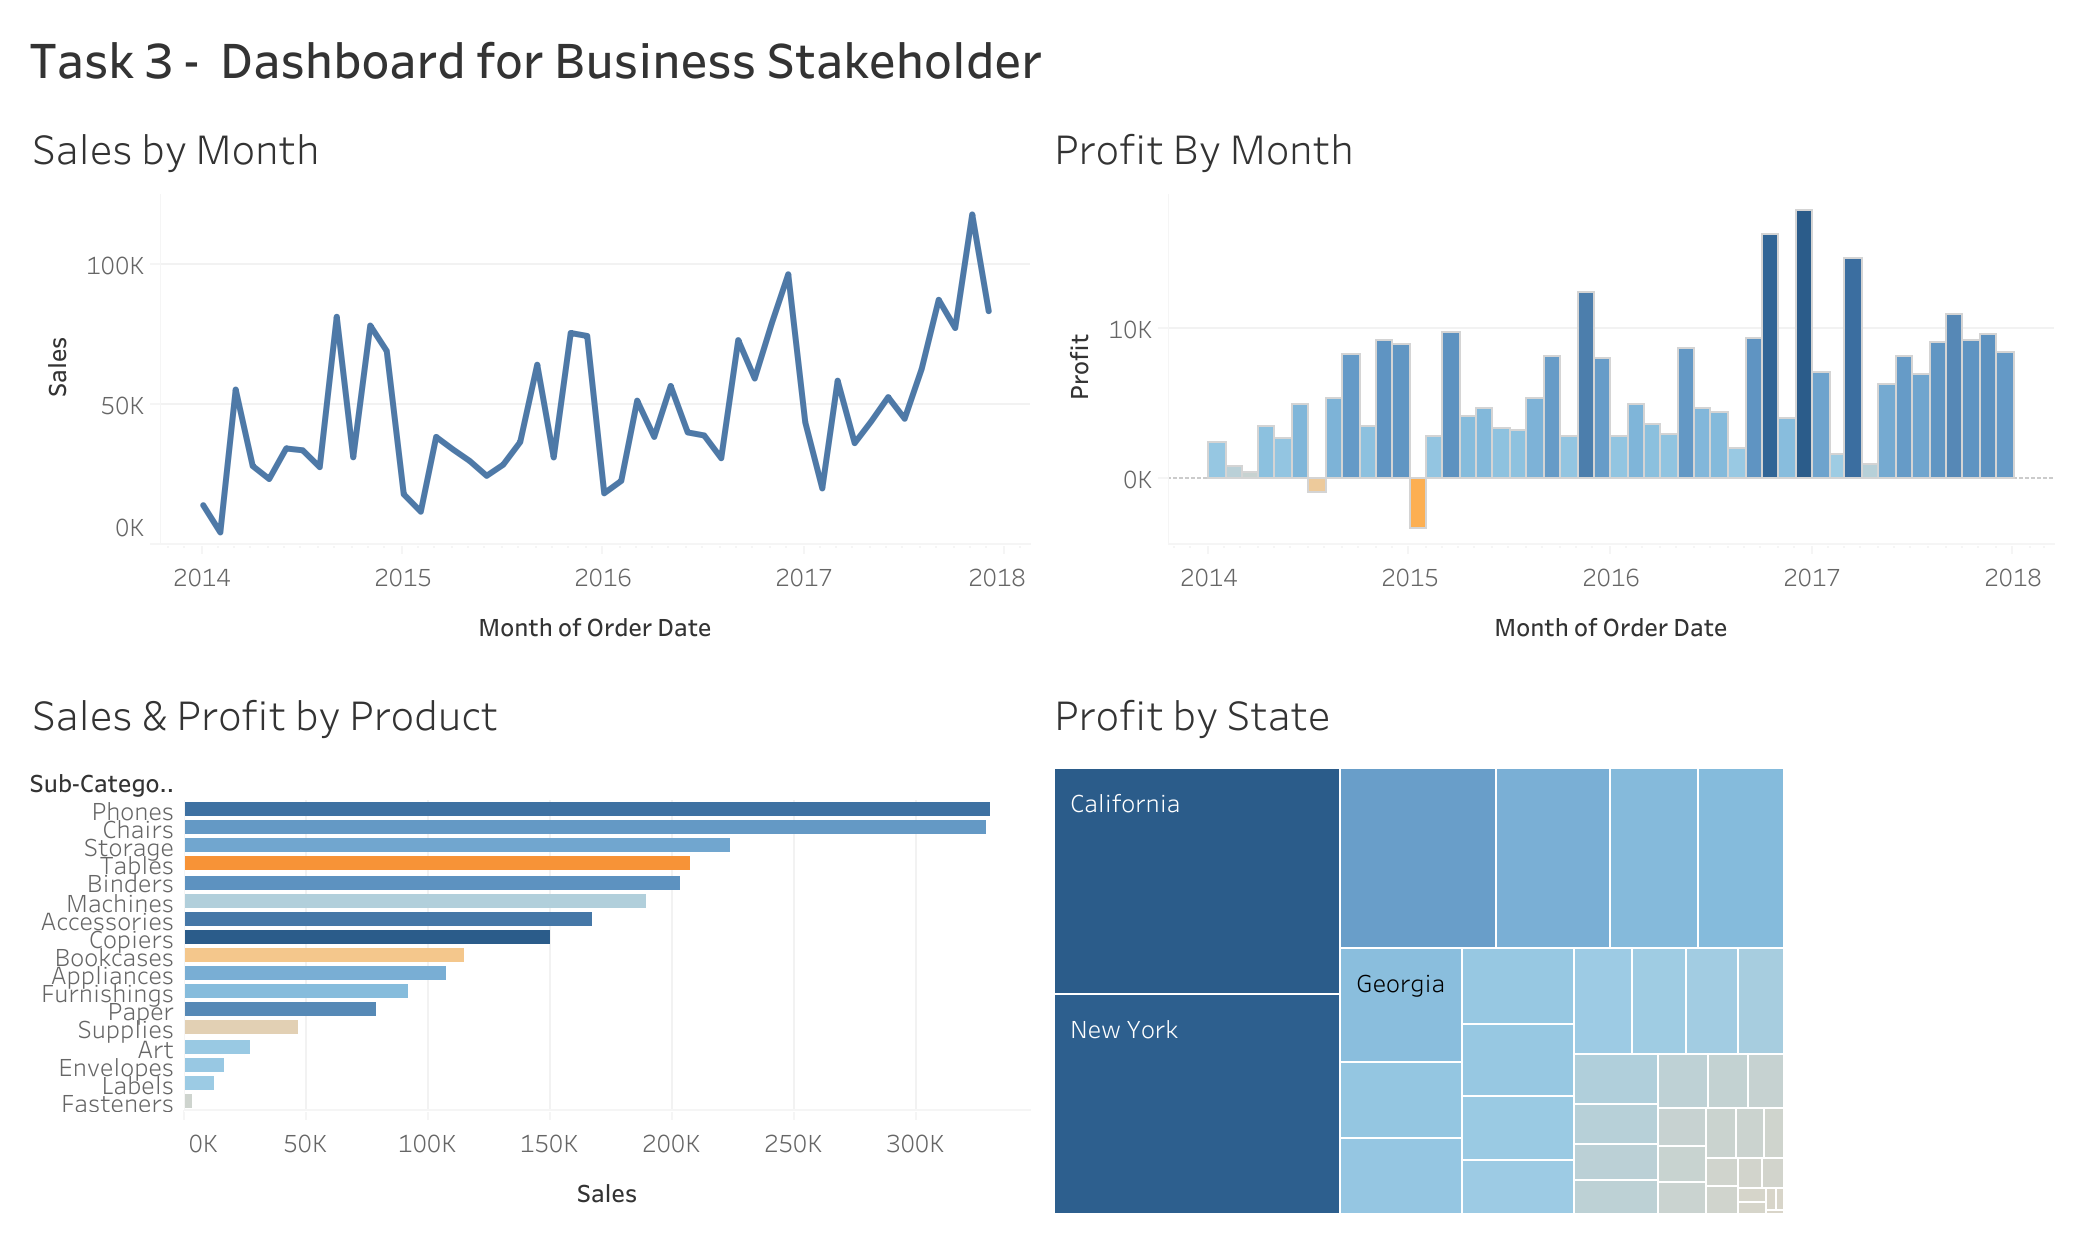

The page's visual inventory and layout, read from the dashboard file:
{"tool":"tableau","page":{"name":"Dashboard 1","canvas":[1000,1000],"units":"permille","ordinal":0},"visuals":[{"type":"title","box":[7.4,12.3,985.3,63.2]},{"type":"worksheet","title":"Sales by Month","mark":"Automatic","rows":["Sales"],"cols":["Order Date"],"box":[7.4,75.5,492.6,456.1]},{"type":"worksheet","title":"Profit By Month","mark":"Bar","rows":["Profit"],"cols":["Order Date"],"box":[500,75.5,492.6,456.1]},{"type":"worksheet","title":"Sales & Profit by Product","mark":"Automatic","rows":["Sub-Category"],"cols":["Sales"],"box":[7.4,531.6,492.6,456.1]},{"type":"worksheet","title":"Profit by State ","mark":"Automatic","box":[500,531.6,492.6,456.1]}]}

Visuals, with their boxes on the dashboard's canvas, which has no fixed pixel size, in thousandths of its width and height (x1, y1, x2, y2). These are canvas units, not pixel positions in the 2076x1246 screenshot, which may show the page scaled, cropped or inside an application window:
title: select_region(7, 12, 993, 76)
"Sales by Month" worksheet: select_region(7, 76, 500, 532)
"Profit By Month" worksheet (Bar marks): select_region(500, 76, 993, 532)
"Sales & Profit by Product" worksheet: select_region(7, 532, 500, 988)
"Profit by State " worksheet: select_region(500, 532, 993, 988)
